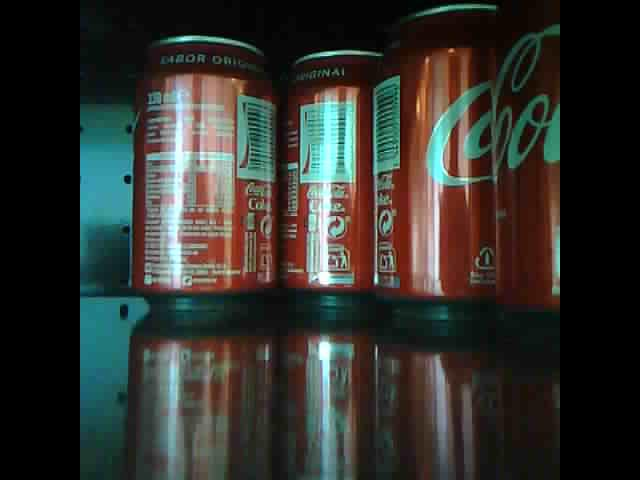coca cola: (126, 35, 278, 316), (382, 1, 499, 321), (282, 47, 384, 311), (495, 3, 559, 327)
